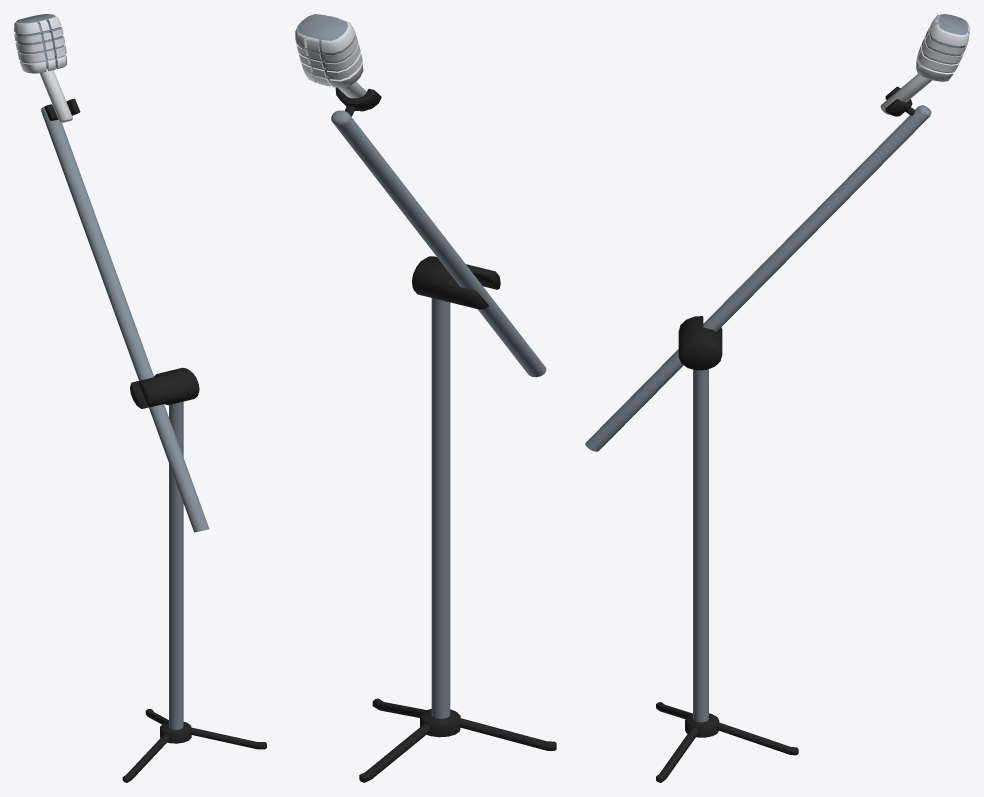
Rendered from Stage-Microphone.fbx.
The picture shows the model from 3 angles, left to right: view 1: azimuth 30°, elevation 25°; view 2: azimuth 150°, elevation 25°; view 3: azimuth 270°, elevation 25°; orthographic projection. The views are drawn at different scales.
Parts seen in each view (by area): view 1: Stage-Microphone, Stage-Microphone.001; view 2: Stage-Microphone, Stage-Microphone.001; view 3: Stage-Microphone, Stage-Microphone.001.
Part boxes in pixels (bbox=[...]): Stage-Microphone: bbox=[41, 98, 266, 782]; Stage-Microphone.001: bbox=[14, 14, 72, 122]; Stage-Microphone: bbox=[331, 87, 556, 782]; Stage-Microphone.001: bbox=[295, 14, 366, 98]; Stage-Microphone: bbox=[585, 86, 931, 782]; Stage-Microphone.001: bbox=[880, 14, 969, 114].
Size of the model in its own units: 0.3629 by 1.59 by 0.7774.
